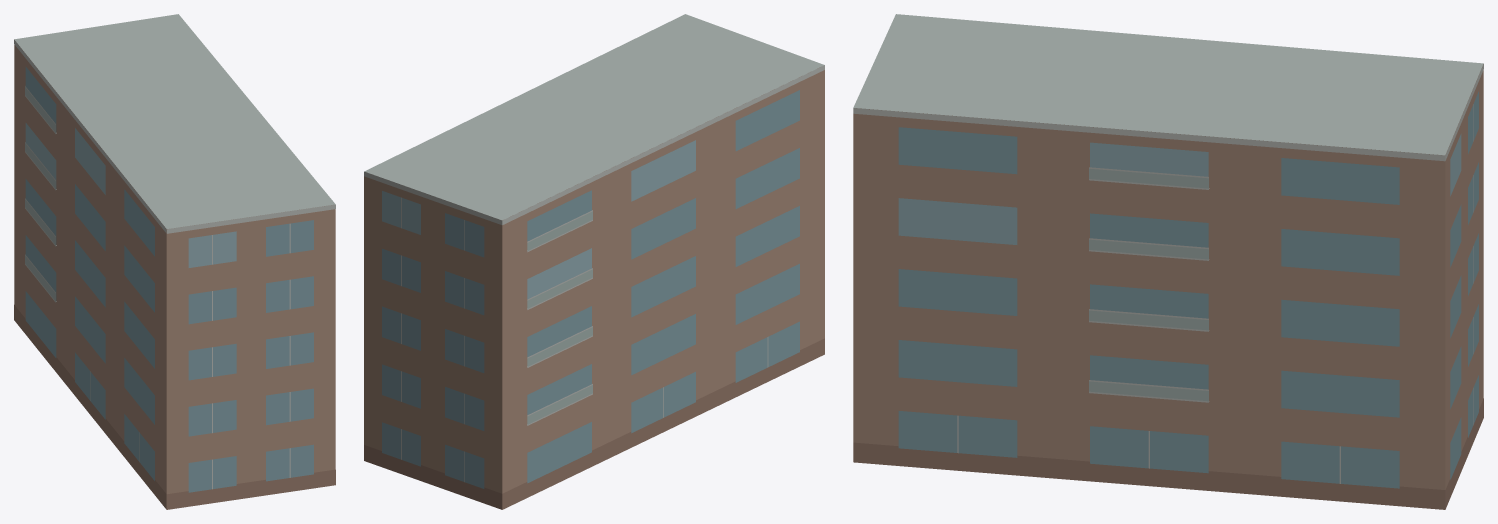
File: survey-upis-32537530.glb
3 renders of one model, left to right at view 1: azimuth 30°, elevation 25°; view 2: azimuth 150°, elevation 25°; view 3: azimuth 270°, elevation 25°, orthographic. The views are drawn at different scales.
Parts seen in each view (by area): view 1: survey-upis-32537530.tmp; view 2: survey-upis-32537530.tmp; view 3: survey-upis-32537530.tmp.
Boxes of the visible parts, x1,y1,x2,y2 form: survey-upis-32537530.tmp: (14, 14, 335, 509); survey-upis-32537530.tmp: (364, 14, 824, 509); survey-upis-32537530.tmp: (853, 14, 1483, 509).
Bounding box in the file's own units: 12.49 × 14.6 × 23.54.
